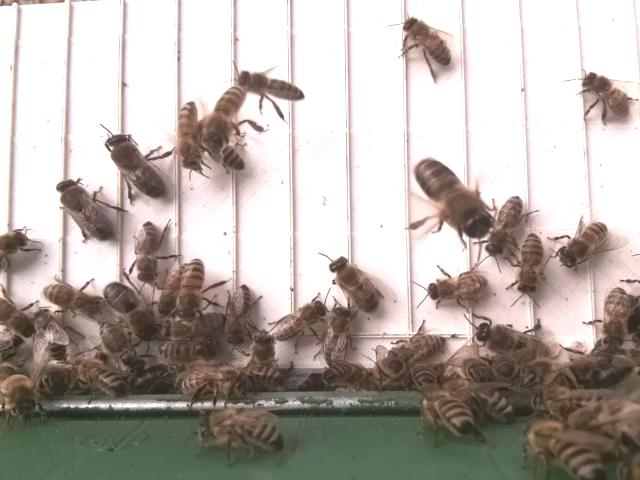Drone: (413, 155, 490, 238), (103, 131, 169, 200), (474, 319, 558, 367), (55, 175, 115, 242), (102, 282, 162, 343), (329, 255, 385, 318)
Worker: (199, 82, 248, 151), (198, 415, 284, 450), (401, 15, 456, 69), (484, 193, 527, 257), (580, 70, 631, 122), (237, 69, 307, 103), (596, 284, 630, 352), (385, 332, 451, 367), (175, 99, 205, 175), (271, 300, 328, 340), (174, 257, 208, 322), (558, 222, 609, 265), (41, 282, 103, 317), (425, 271, 492, 303), (514, 235, 548, 296), (133, 218, 163, 287), (321, 305, 351, 368), (229, 281, 254, 349), (178, 371, 239, 396)
